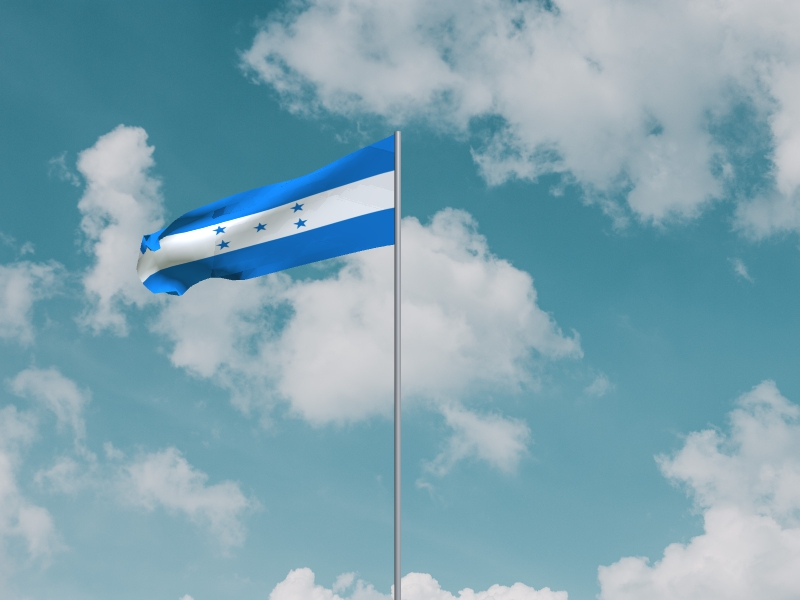hn: (136, 135, 395, 298)
